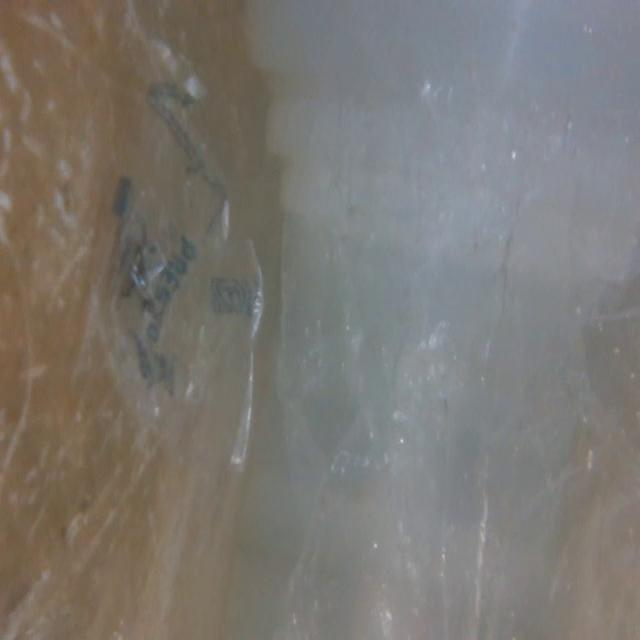plastic bags: (82, 63, 268, 475)
